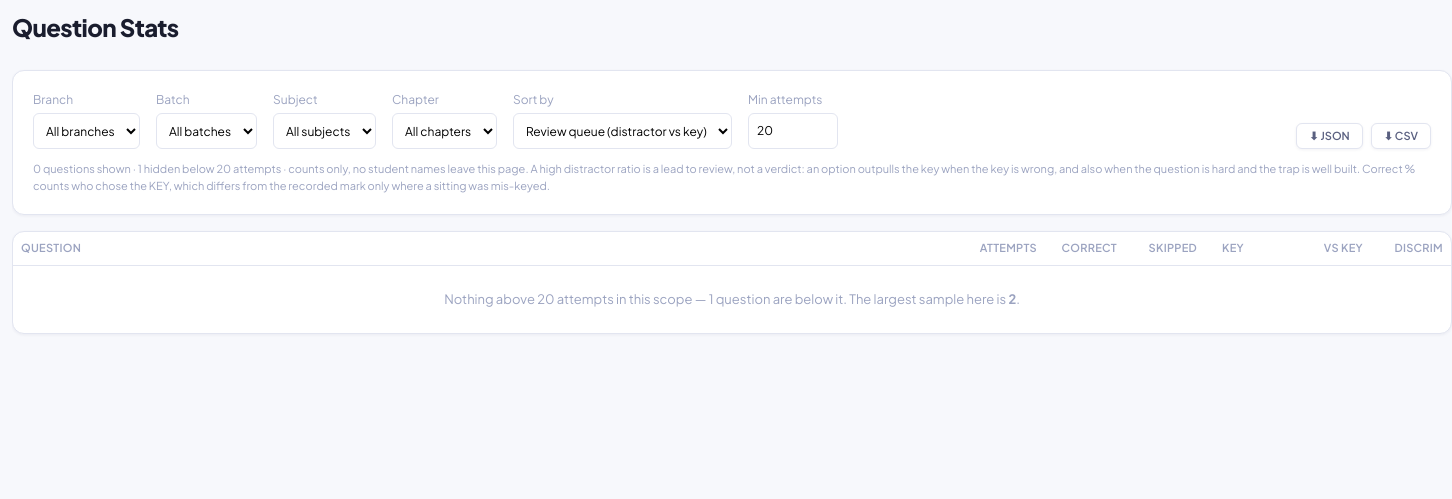
Test: ItemStatsPage — cohort filter › counts only the chosen batch
The width and height of the screenshot is (1452, 499).
Replace the text in the number field labelled "Min attempts" with "1" at (793, 131), box [748, 113, 838, 149]
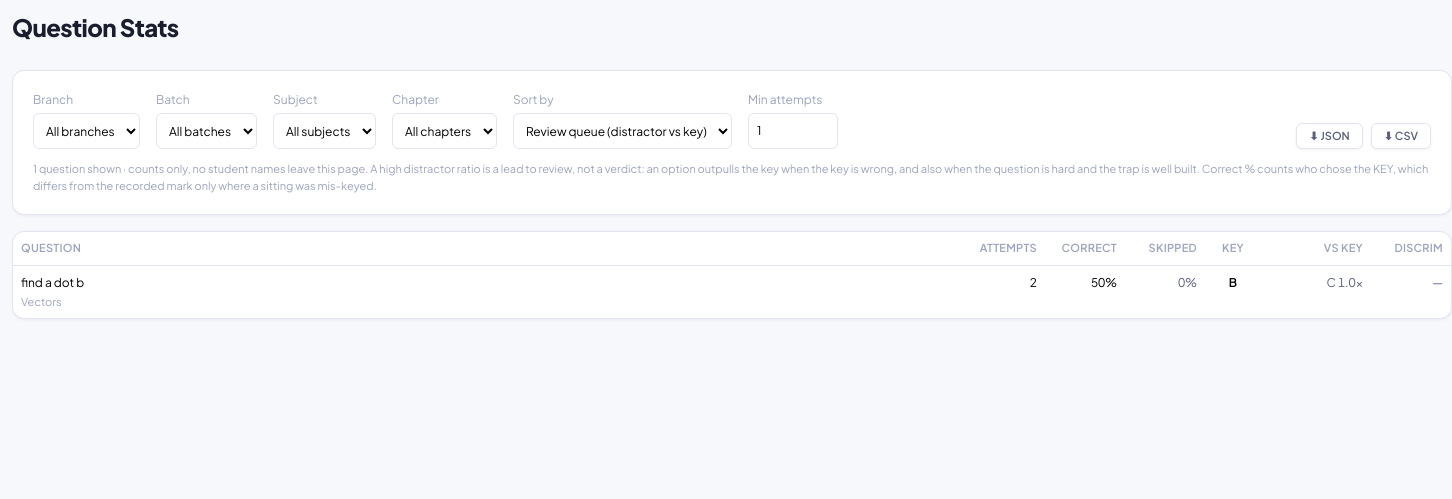
Select "11A" in the dropdown labelled "Batch" at (206, 131), box [156, 113, 257, 149]
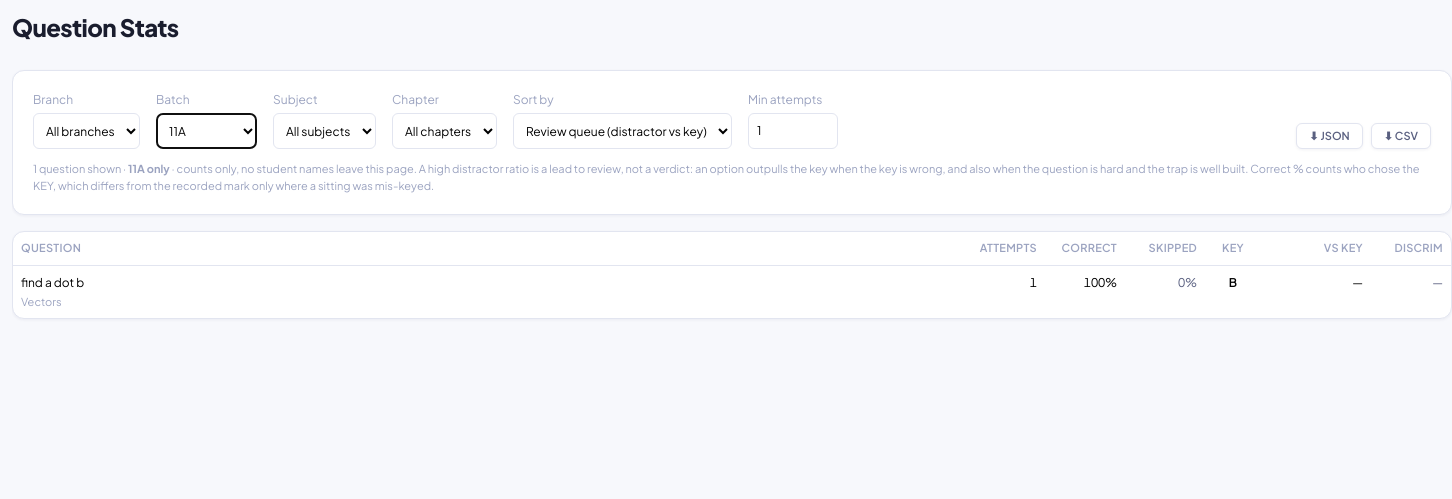
Click the row with test id "item-row" at (53, 282), box [13, 265, 1451, 318]
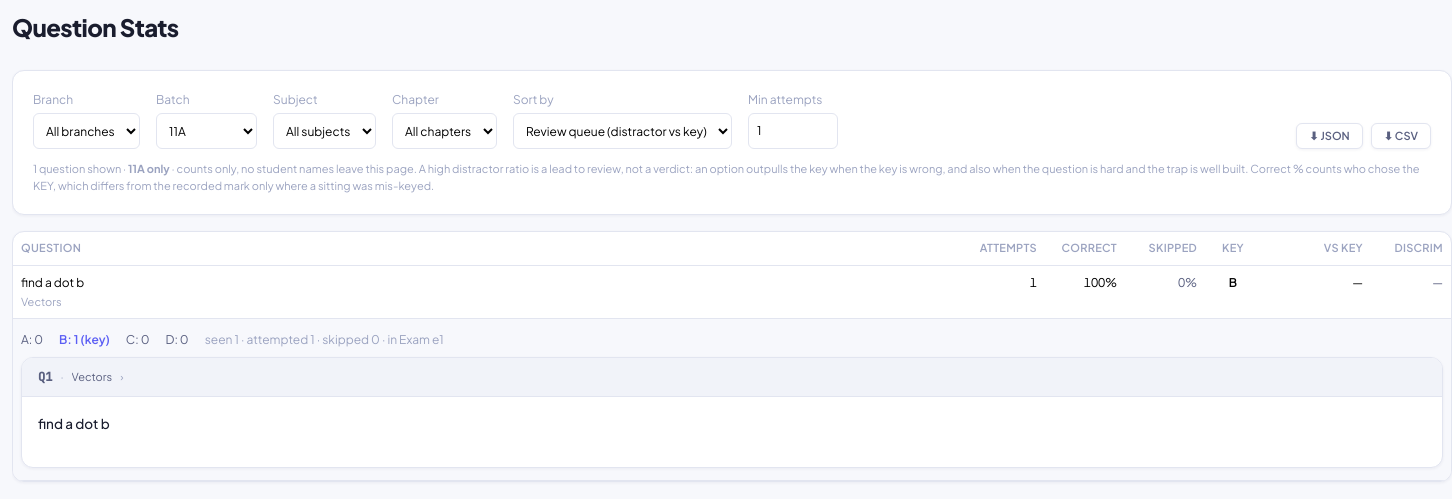
Expected: the text "seen 1 · attempted 1 · skipped 0 · in Exam e1" is shown, [205, 331, 444, 349]
